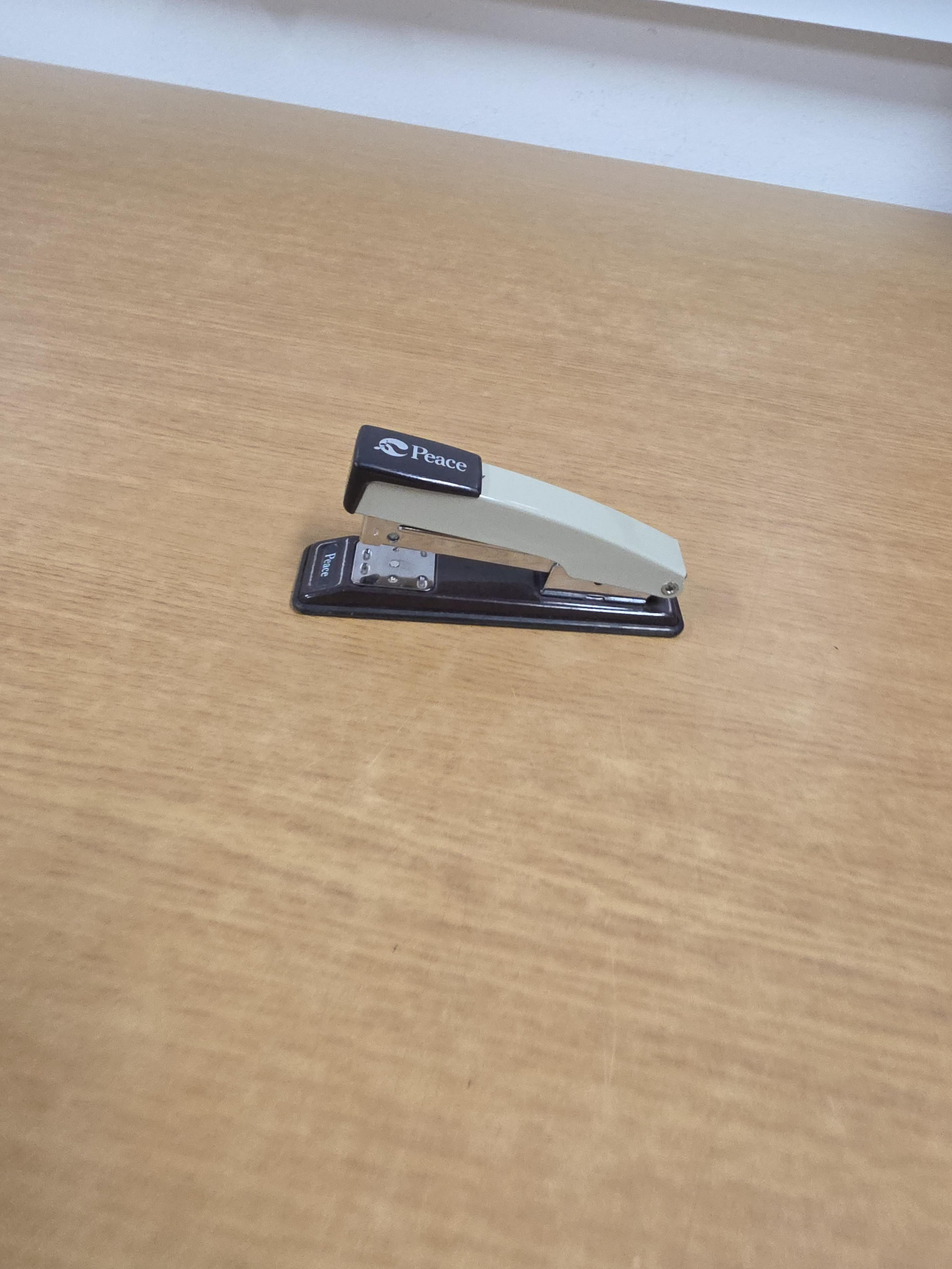stapler: (288, 424, 688, 640)
